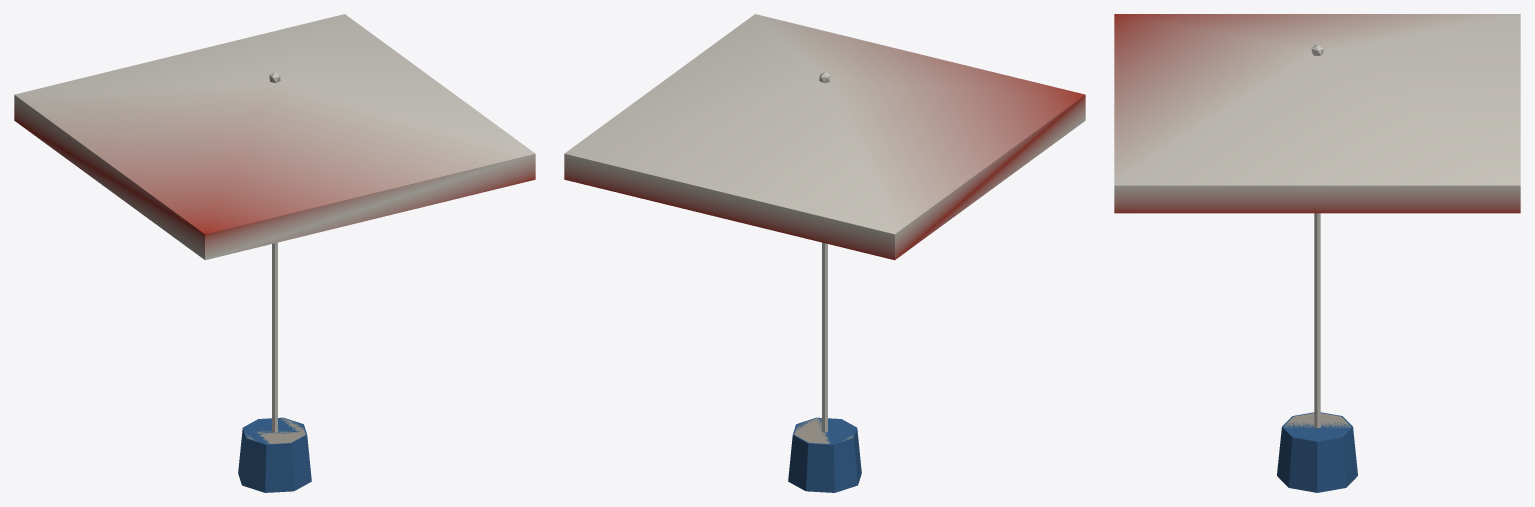
File: o_du_cafe.glb
3 renders of one model, left to right at view 1: azimuth 30°, elevation 25°; view 2: azimuth 150°, elevation 25°; view 3: azimuth 270°, elevation 25°, orthographic. The views are drawn at different scales.
Parts seen in each view (by area): view 1: o_du_cafe; view 2: o_du_cafe; view 3: o_du_cafe.
Boxes of the visible parts, x1,y1,x2,y2 form: o_du_cafe: (14,14,535,492); o_du_cafe: (564,14,1085,492); o_du_cafe: (1114,14,1520,492).
Bounding box in the file's own units: 2.4 × 2.81 × 2.4.
